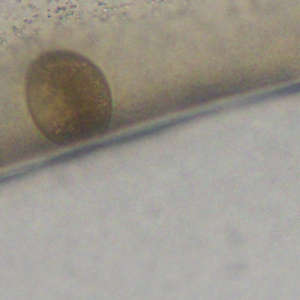Fasciola_hepatica_egg: (23, 47, 113, 148)
